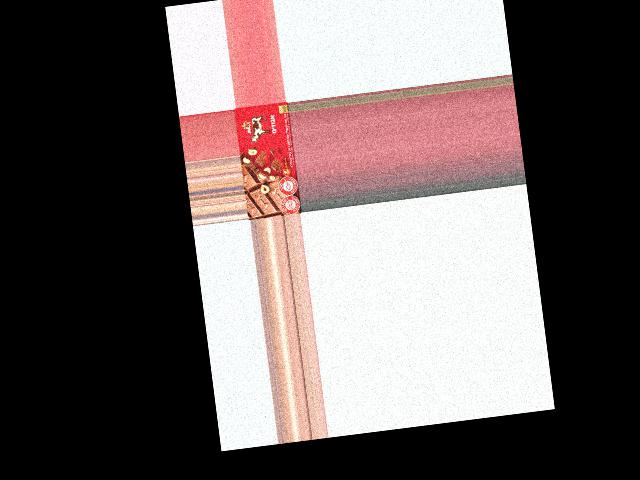chocolate: (234, 101, 300, 219)
